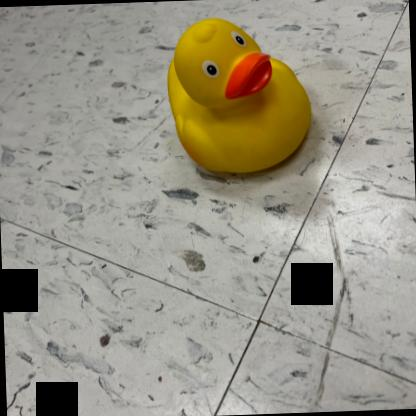duck: (160, 12, 319, 180)
